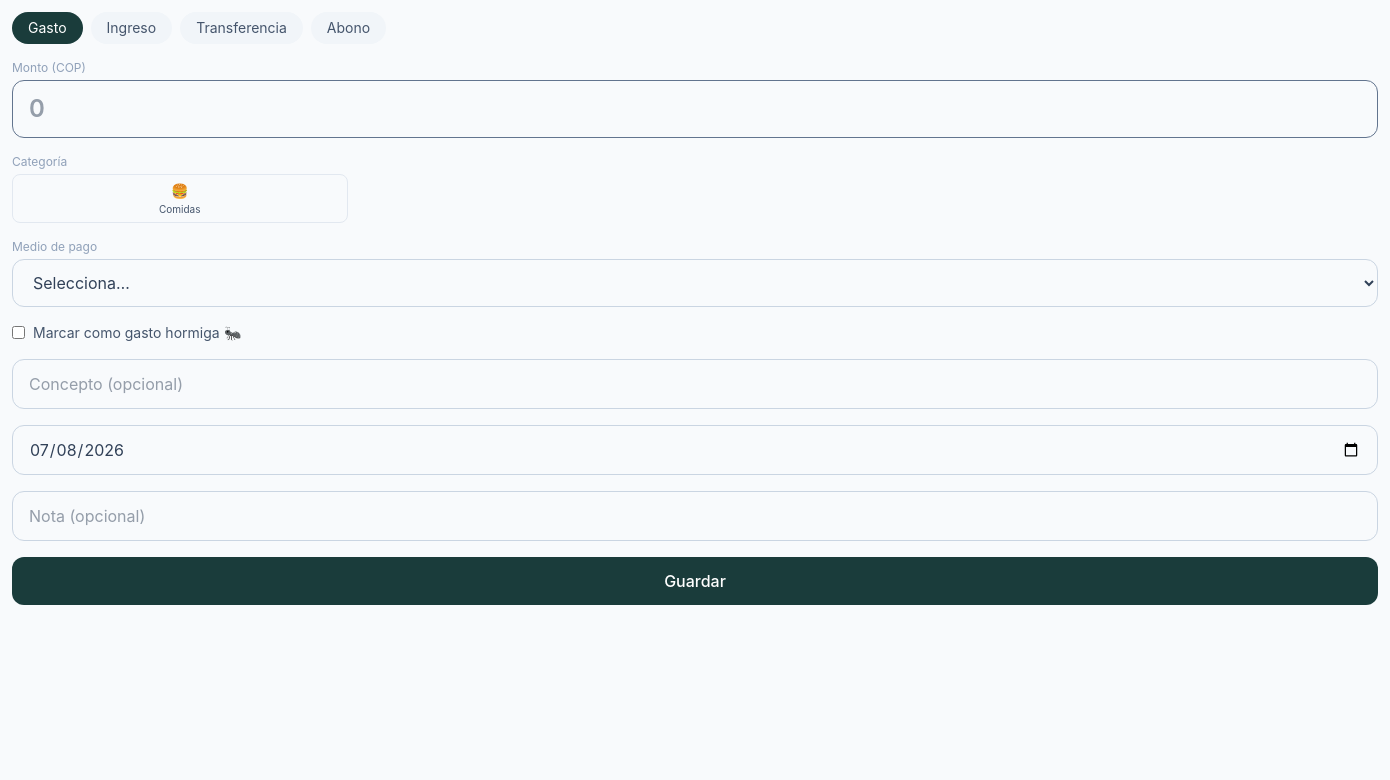
Test: TransactionForm › el abono a deuda NO ofrece cuentas en divisa como origen
Click the button "Abono". click: (349, 28)
box: left=311, top=12, right=386, bottom=44
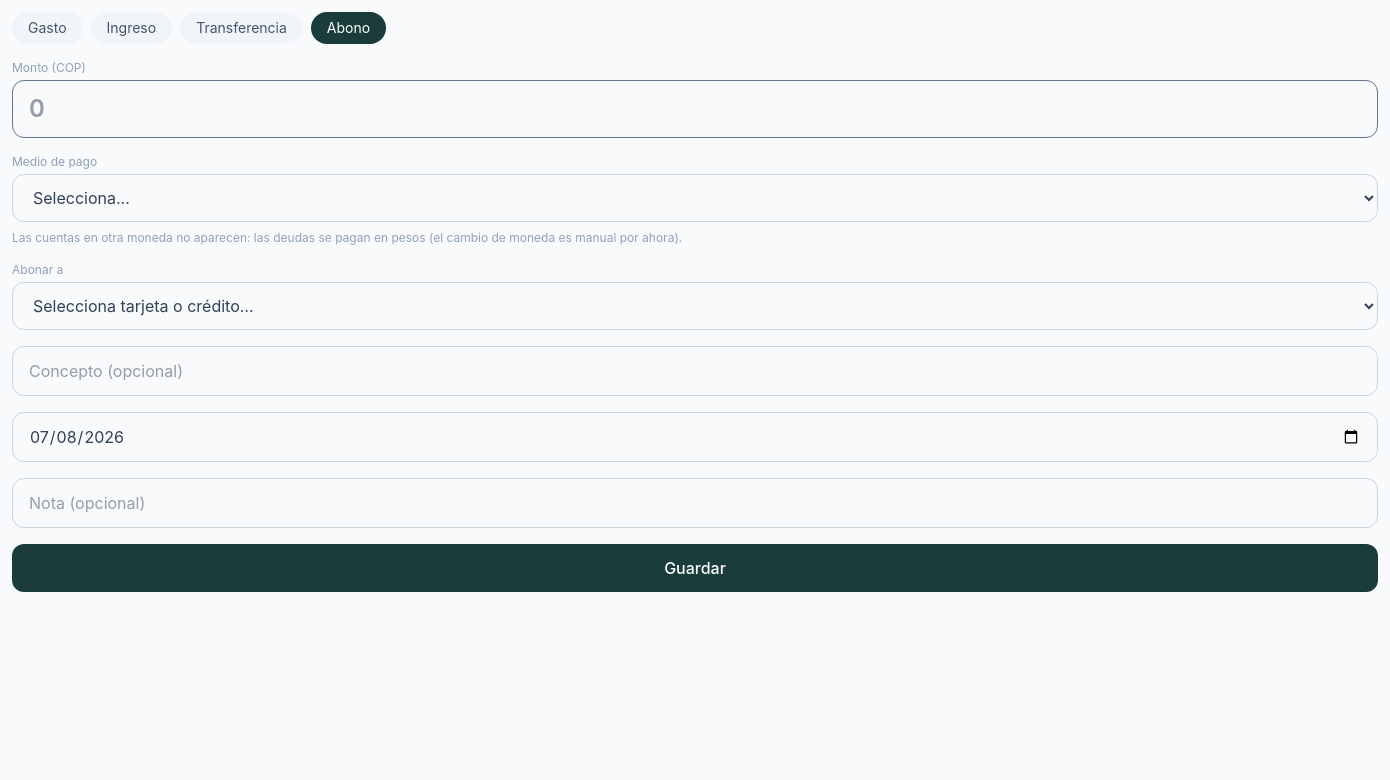
Result: the text "las deudas se pagan en pesos" is shown at left=12, top=230, right=682, bottom=245
